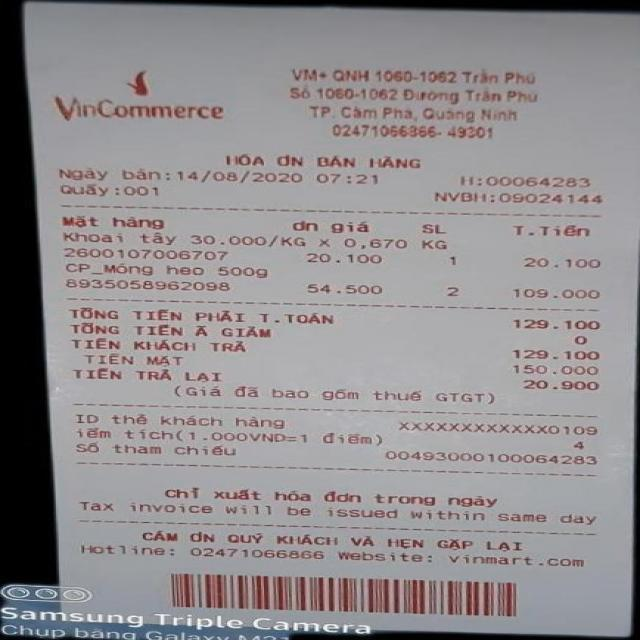Date: (168, 166, 308, 190)
Store_Name: (46, 61, 253, 130)
amount_number: (506, 314, 604, 336)
label_total: (67, 304, 339, 326)
